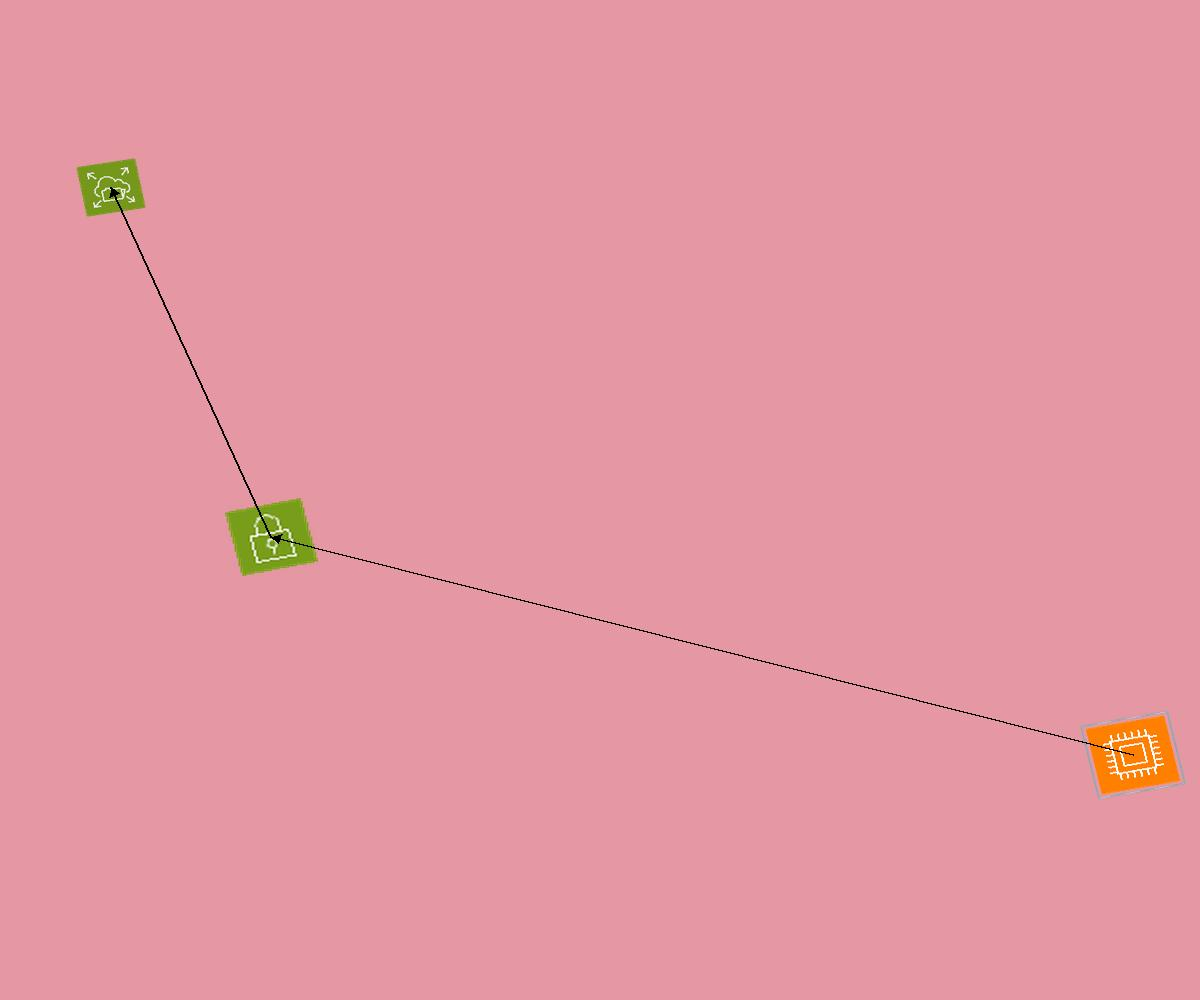AWS-Category_Compute: (1079, 710, 1187, 800)
AWS-EFS: (76, 158, 146, 217)
AWS-Public-subnet: (225, 498, 318, 576)
